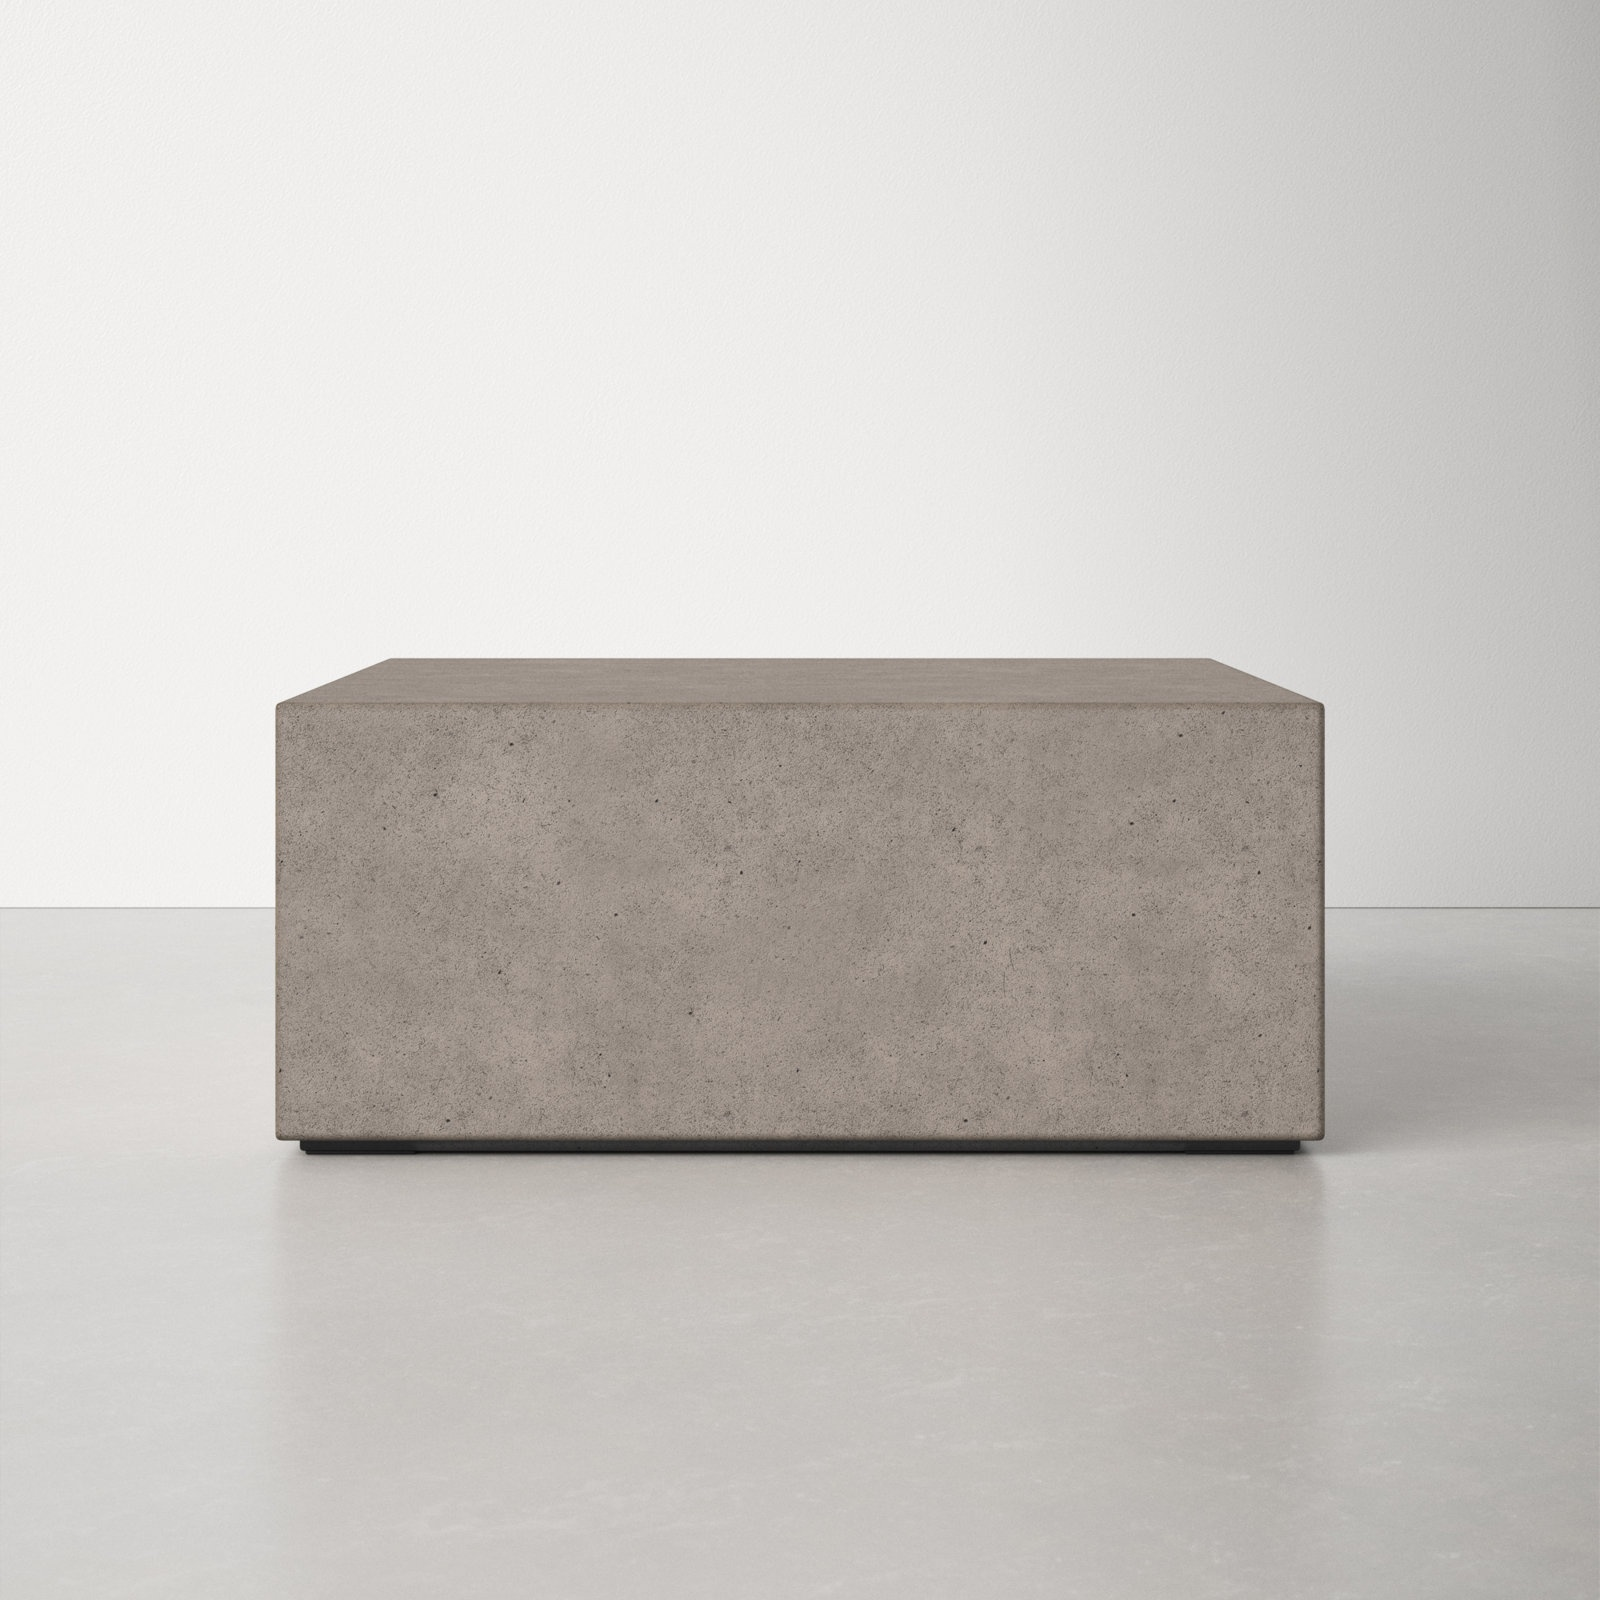obstacle: (277, 659, 1322, 1149)
